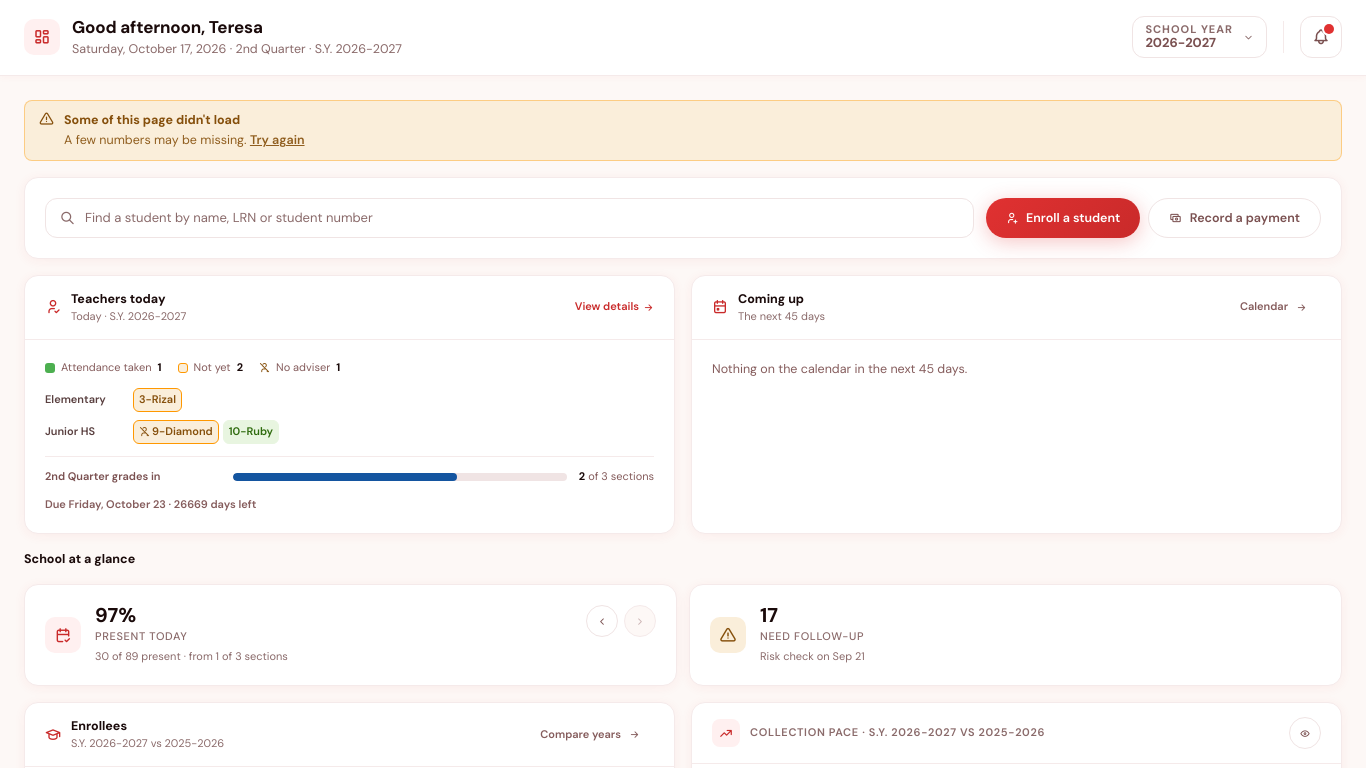
Scenario: AdminHome — needs your attention › warns instead of reading a failed count as nothing to do
The image size is (1366, 768).
Expected: the text "Some of this page didn't load" is shown, [64,112,240,128]
Click the button named "Notifications, 3 need your attention, some couldn't be checked" at (1321, 37), box [1300,16,1342,58]
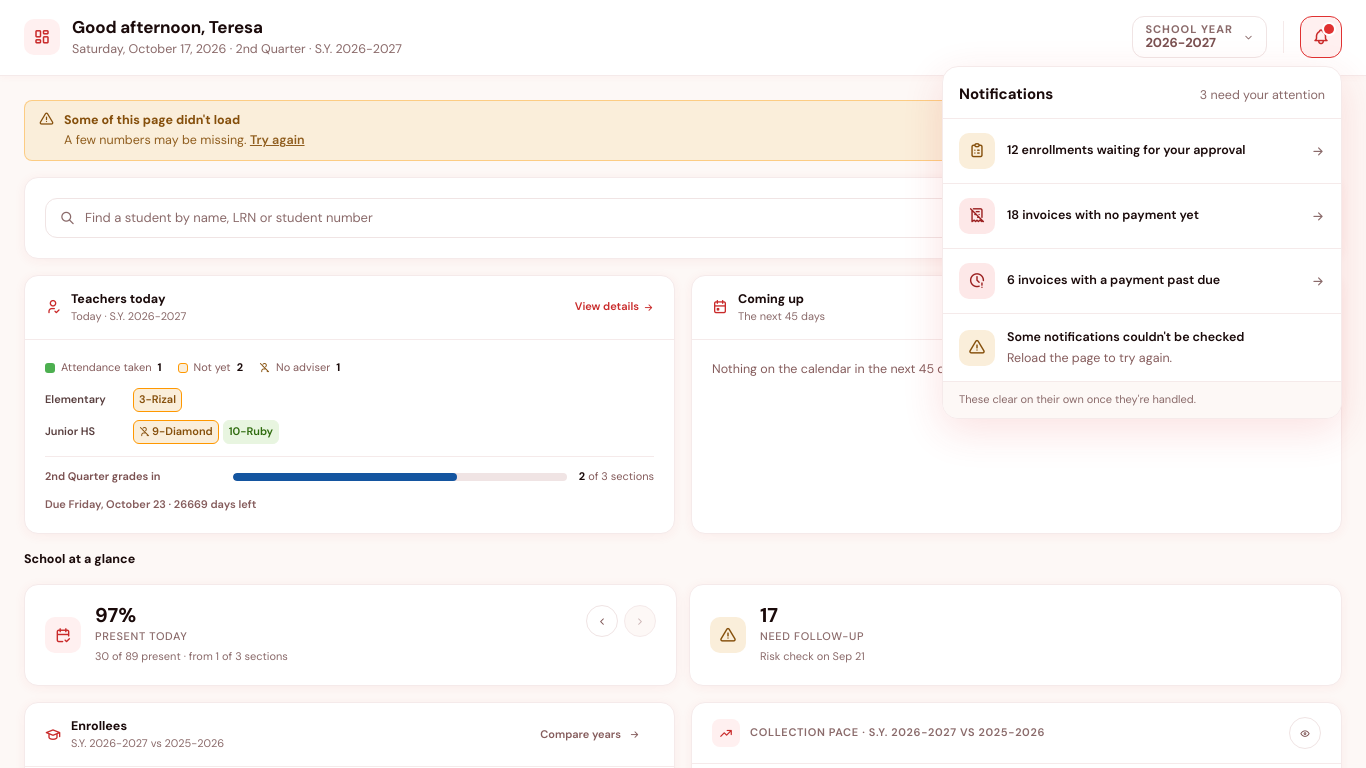
Expected: the link "12 enrollments waiting for your approval" is shown, [959,133,1325,169]
Expected: the text "Some notifications couldn't be checked" is shown, [1007,329,1244,345]
